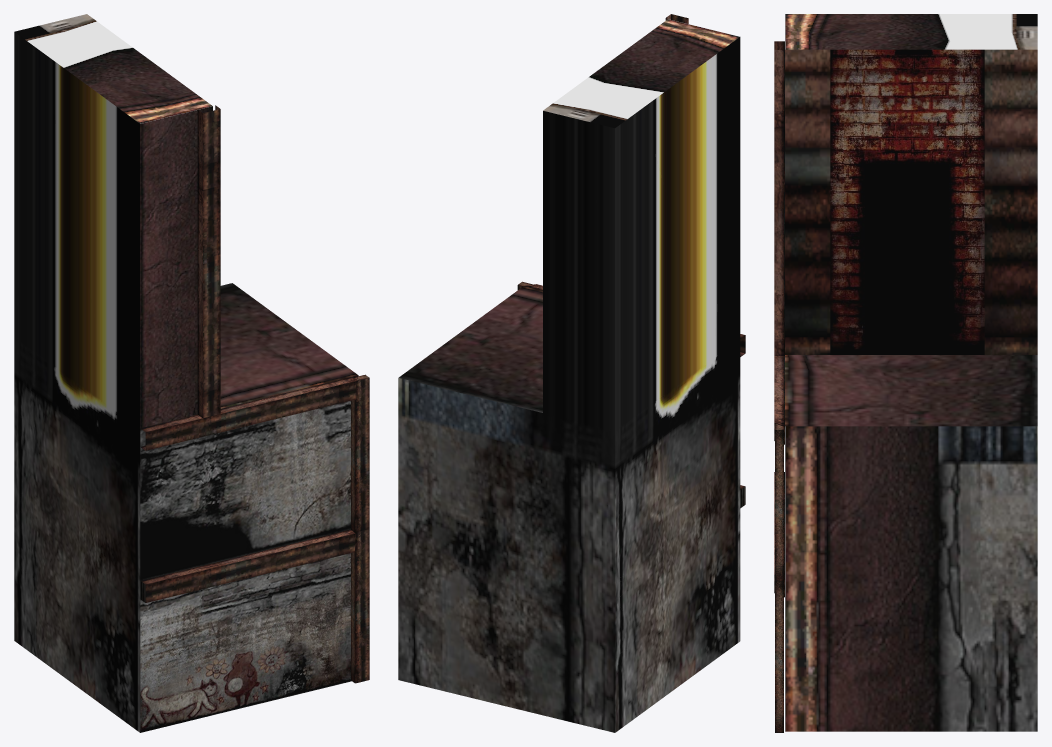
Rendered from Slap_SH_Stage0_Left.fbx.
The picture shows the model from 3 angles, left to right: view 1: azimuth 30°, elevation 25°; view 2: azimuth 150°, elevation 25°; view 3: azimuth 270°, elevation 25°; orthographic projection.
Parts seen in each view (by area): view 1: Slap_SH_Stage0_Left; view 2: Slap_SH_Stage0_Left; view 3: Slap_SH_Stage0_Left.
Part boxes in pixels (x1=…): Slap_SH_Stage0_Left: x1=14, y1=14, x2=369, y2=732; Slap_SH_Stage0_Left: x1=398, y1=14, x2=745, y2=732; Slap_SH_Stage0_Left: x1=774, y1=14, x2=1037, y2=732.
Bounding box in the file's own units: 1.54 × 4 × 1.56.
